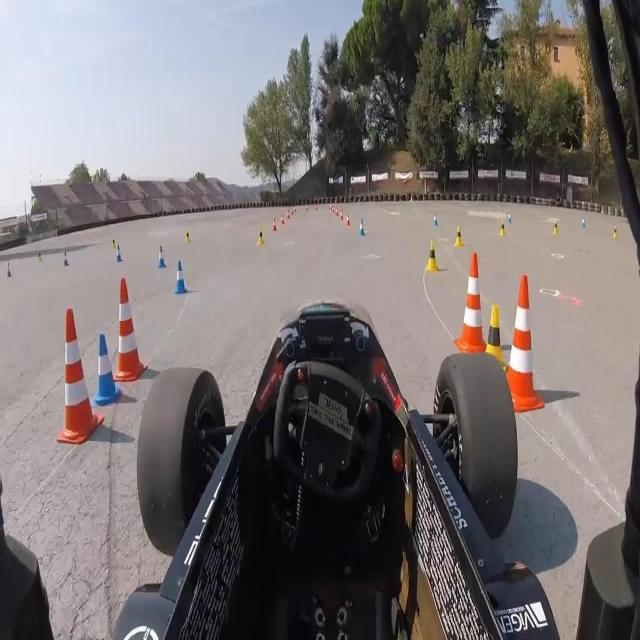blue_cone: (92, 331, 122, 409), (174, 258, 187, 297), (357, 218, 367, 238), (158, 244, 166, 268), (115, 244, 124, 263), (62, 250, 70, 267), (432, 212, 438, 228)
large_orange_cone: (54, 308, 102, 444), (502, 271, 546, 414), (111, 275, 147, 382), (452, 251, 489, 353)
orange_cone: (271, 217, 278, 232), (345, 213, 351, 227), (280, 213, 286, 226), (339, 209, 344, 221)
yellow_cone: (482, 305, 508, 379), (426, 240, 440, 273), (453, 223, 464, 249), (256, 225, 266, 246), (183, 228, 192, 245), (552, 218, 560, 236), (499, 218, 506, 236)
